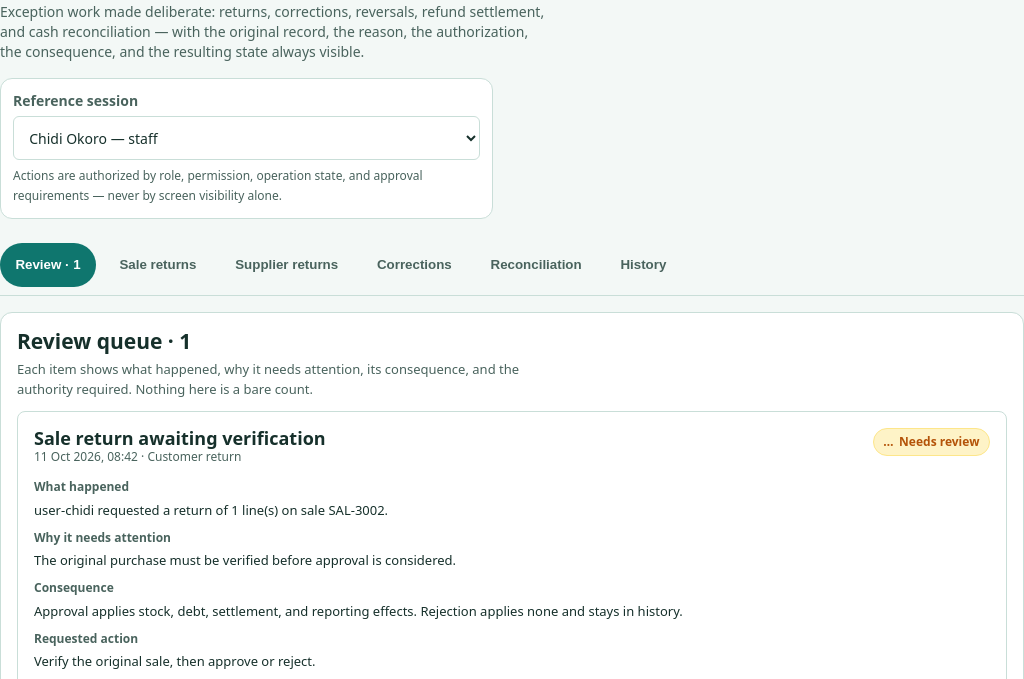
Test: Exceptions & reconciliation workspace › lets staff request a return but keeps approval management-only
Click the tab "Sale returns" at coordinates (158, 265), box [104,243,212,287]
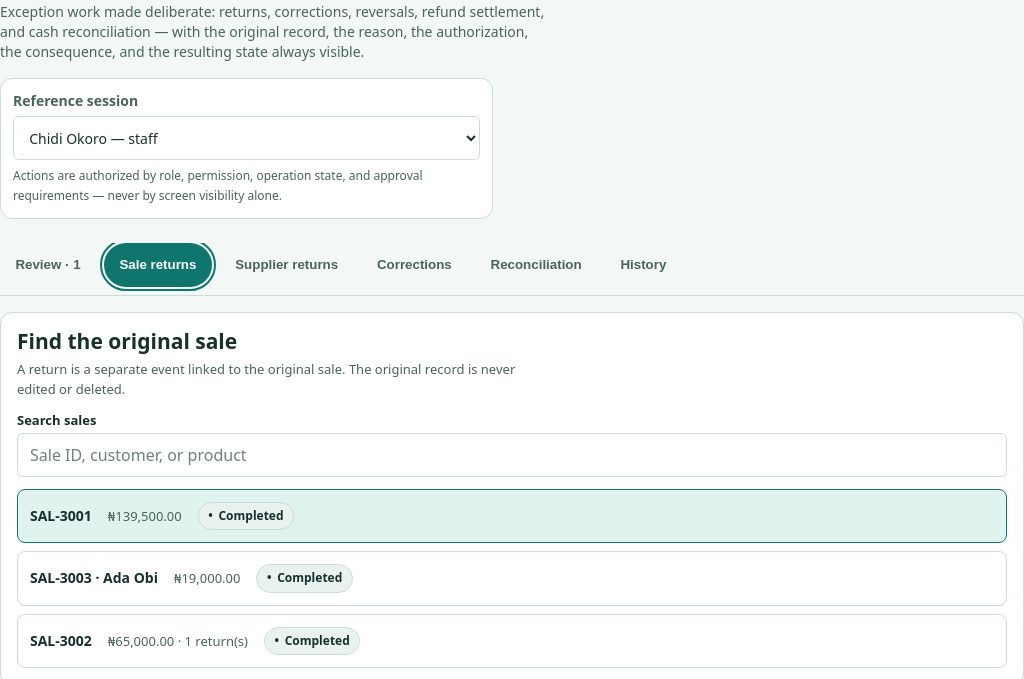
Click the button "SAL-3001 ₦139,500.00 • Completed" at coordinates (61, 515), box [17,489,1007,543]
(page scrolled)
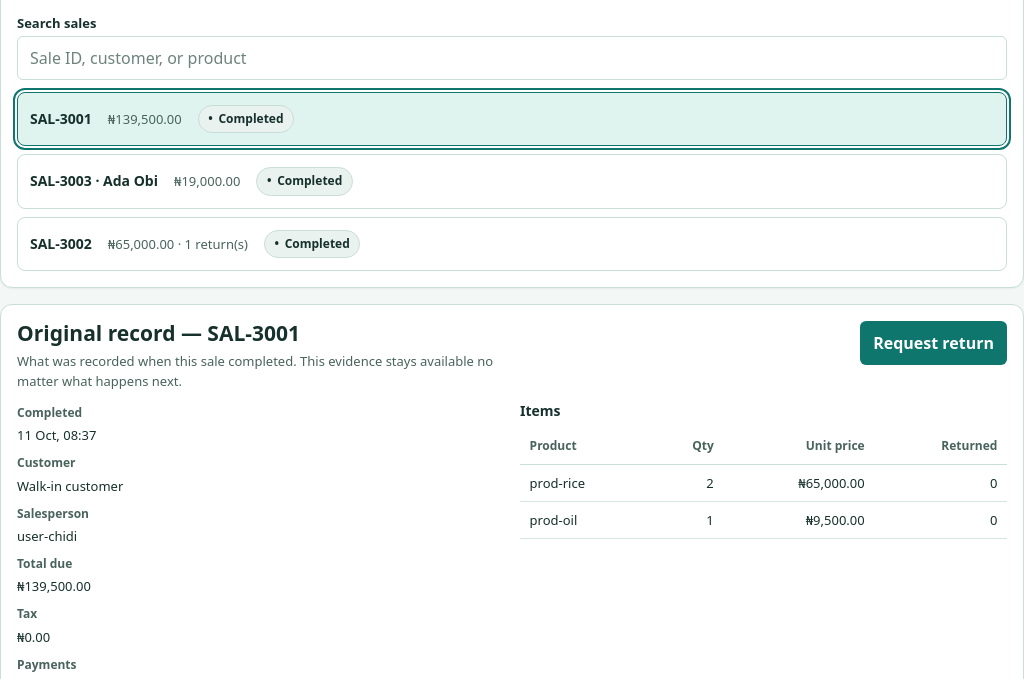
Click the button "Request return" at coordinates (934, 343), box [860,321,1007,365]
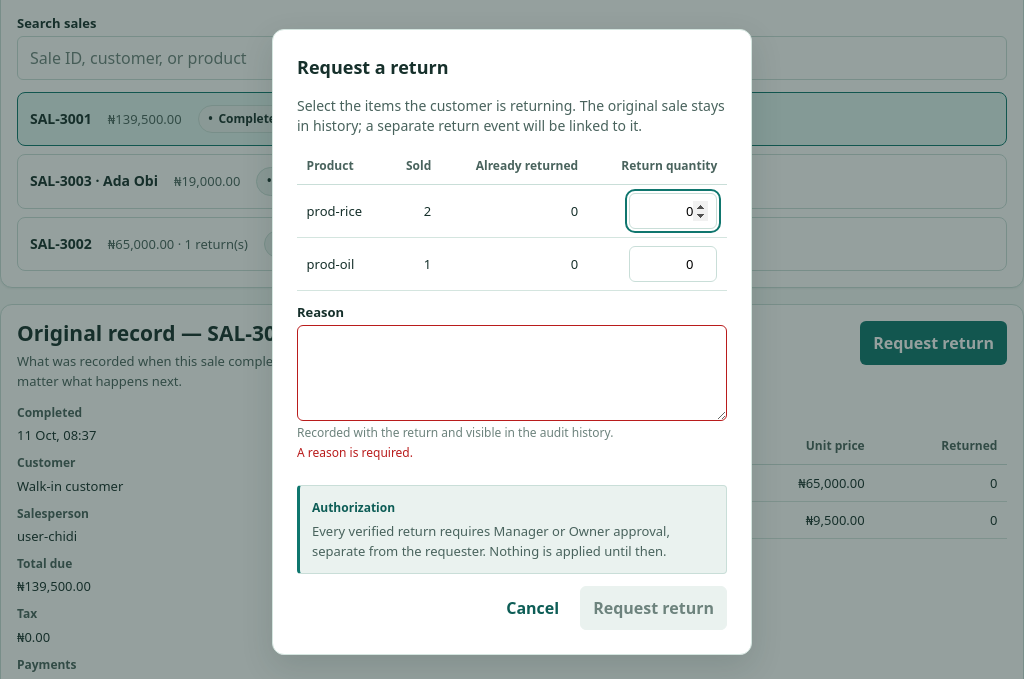
Replace the text in the number field named "Return quantity for prod-rice" with "1" at coordinates (673, 211), box [629,193,717,229]
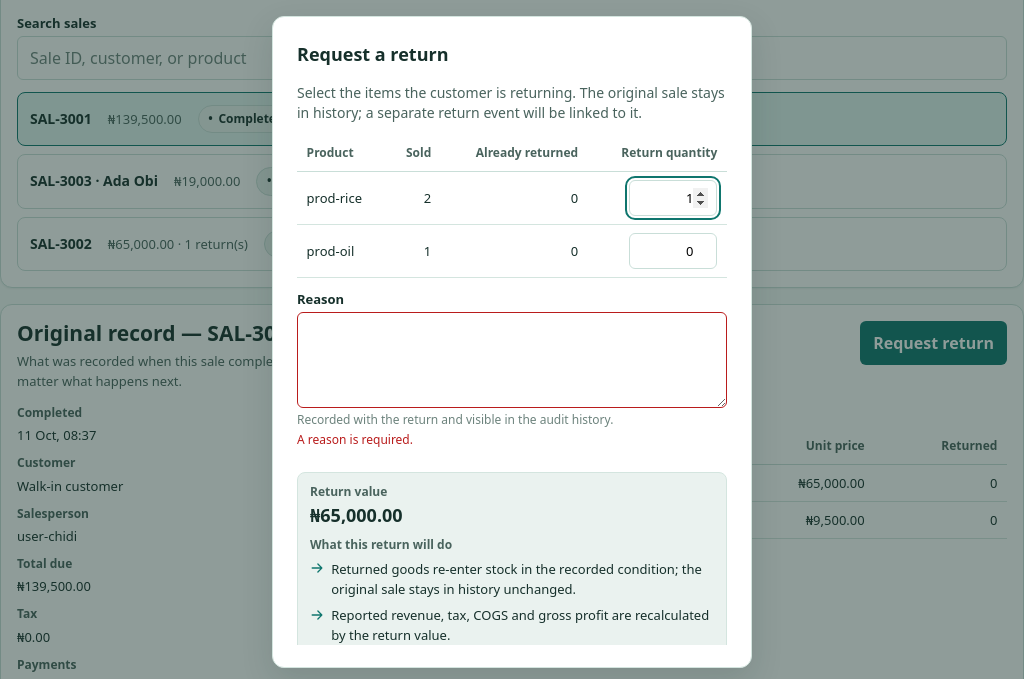
Type "Customer brought back one bag." into the text box labelled "Reason" at coordinates (512, 360), box [297,312,727,408]
(page scrolled)
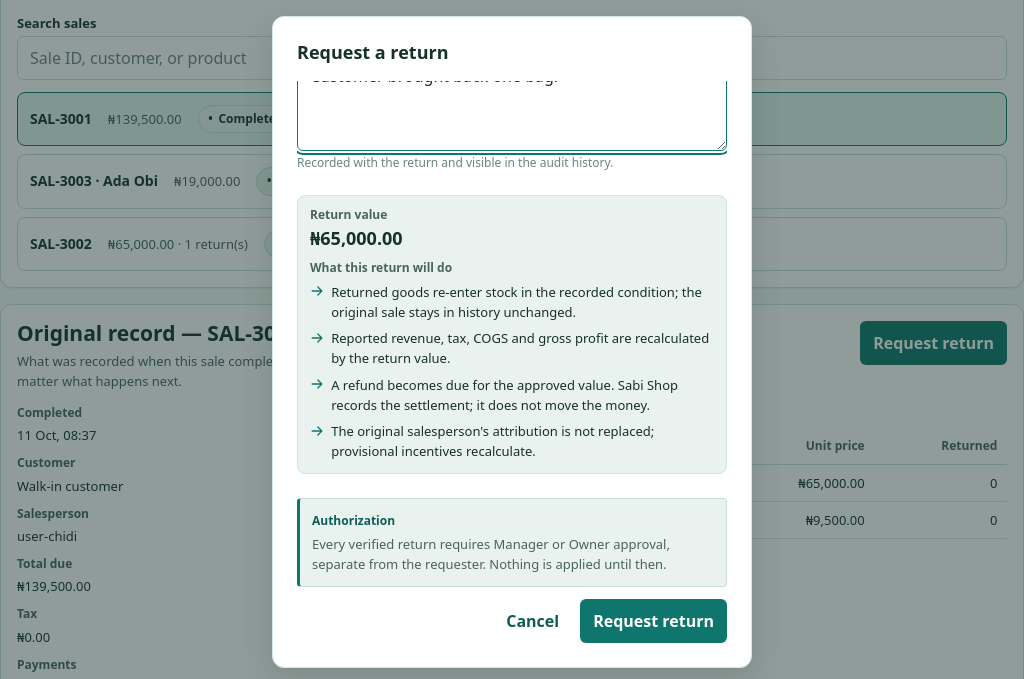
Click the button "Request return" at coordinates (654, 621), box [580,599,727,643]
(page scrolled)
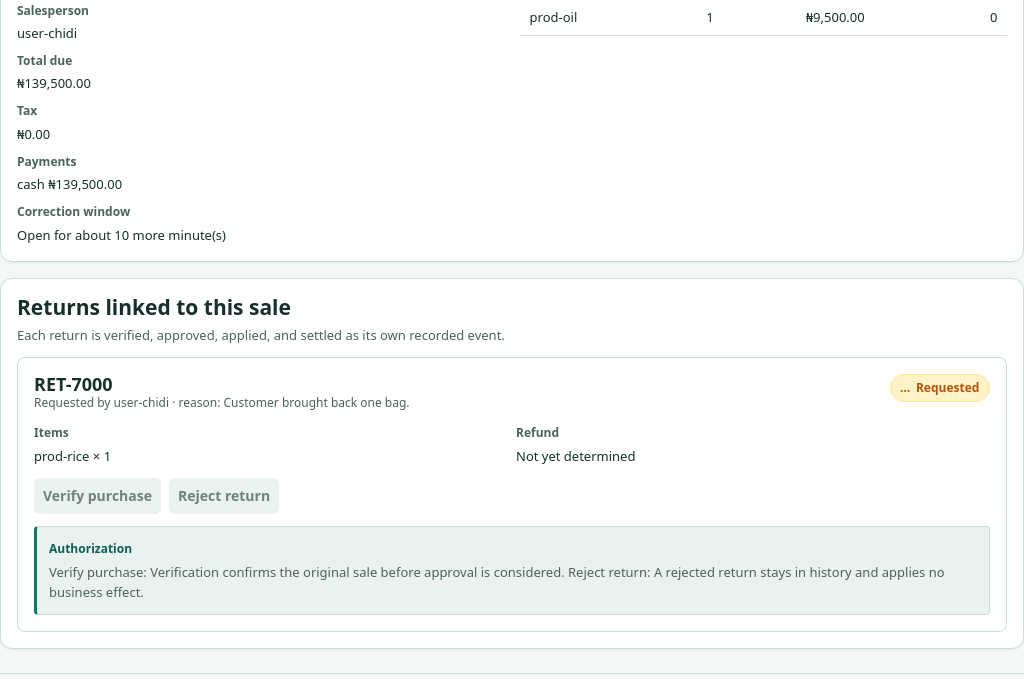
Expected: the text "Requested" is shown, [916,379,980,396]
Expected: the button "Verify purchase" is disabled, [34,478,161,514]
Expected: the text "Verification confirms the original sale" is shown, [49,563,945,601]
